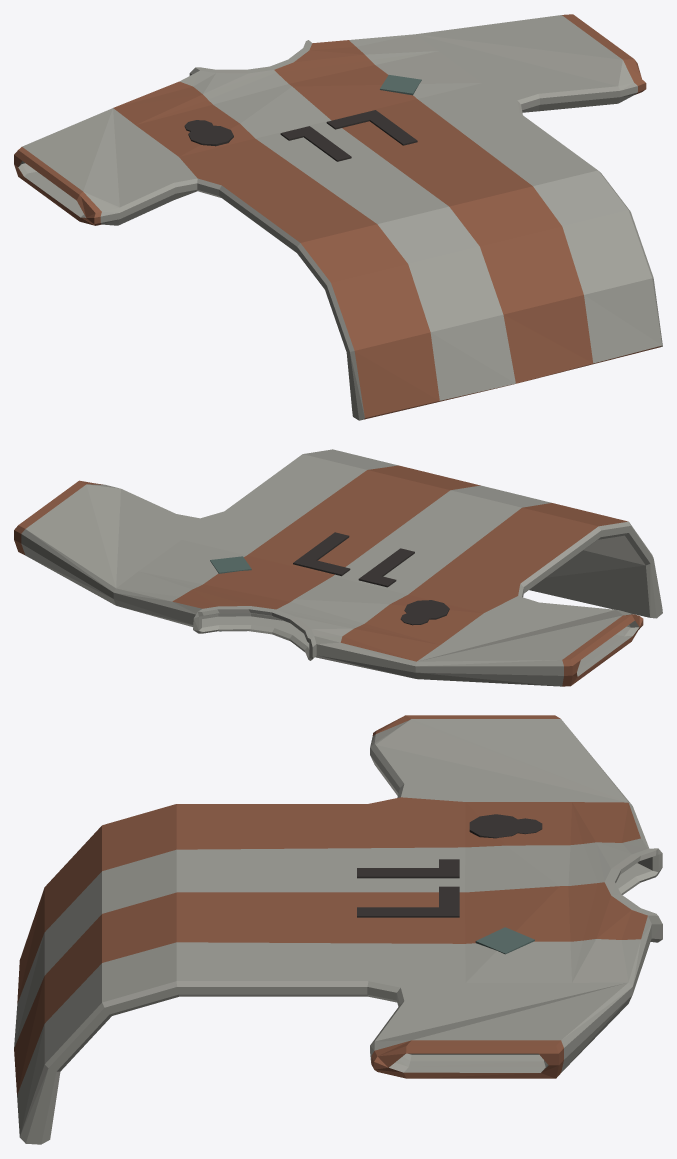
Rendered from Soccer_Jersey.fbx.
The picture shows the model from 3 angles, top to bottom: view 1: azimuth 30°, elevation 25°; view 2: azimuth 150°, elevation 25°; view 3: azimuth 270°, elevation 25°; orthographic projection. The views are drawn at different scales.
Visible parts, largest first — view 1: pCylinder4; view 2: pCylinder4; view 3: pCylinder4.
Boxes of the visible parts, left/top/right/bottom form: pCylinder4: left=14, top=14, right=662, bottom=420; pCylinder4: left=14, top=449, right=662, bottom=686; pCylinder4: left=14, top=715, right=662, bottom=1144.
Bounding box in the file's own units: 91.76 × 22.34 × 75.28.
